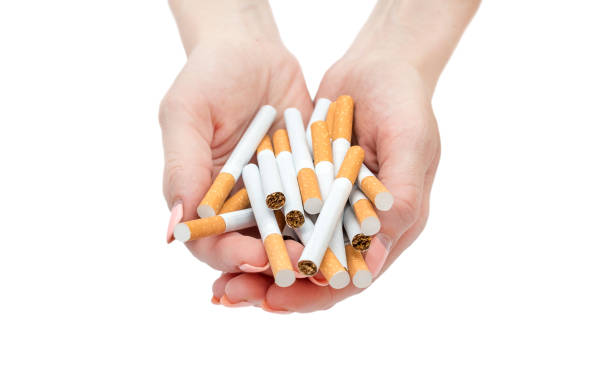cigarette: (195, 103, 277, 218), (296, 145, 365, 278), (240, 162, 296, 289), (308, 119, 350, 273), (281, 106, 323, 214), (296, 214, 352, 289), (272, 128, 306, 230), (173, 207, 258, 243), (254, 134, 287, 211), (355, 161, 395, 213), (305, 96, 334, 160), (333, 94, 355, 178), (343, 231, 373, 290), (349, 186, 382, 237), (343, 206, 372, 252), (218, 187, 252, 215), (324, 100, 339, 145), (280, 225, 294, 241)
